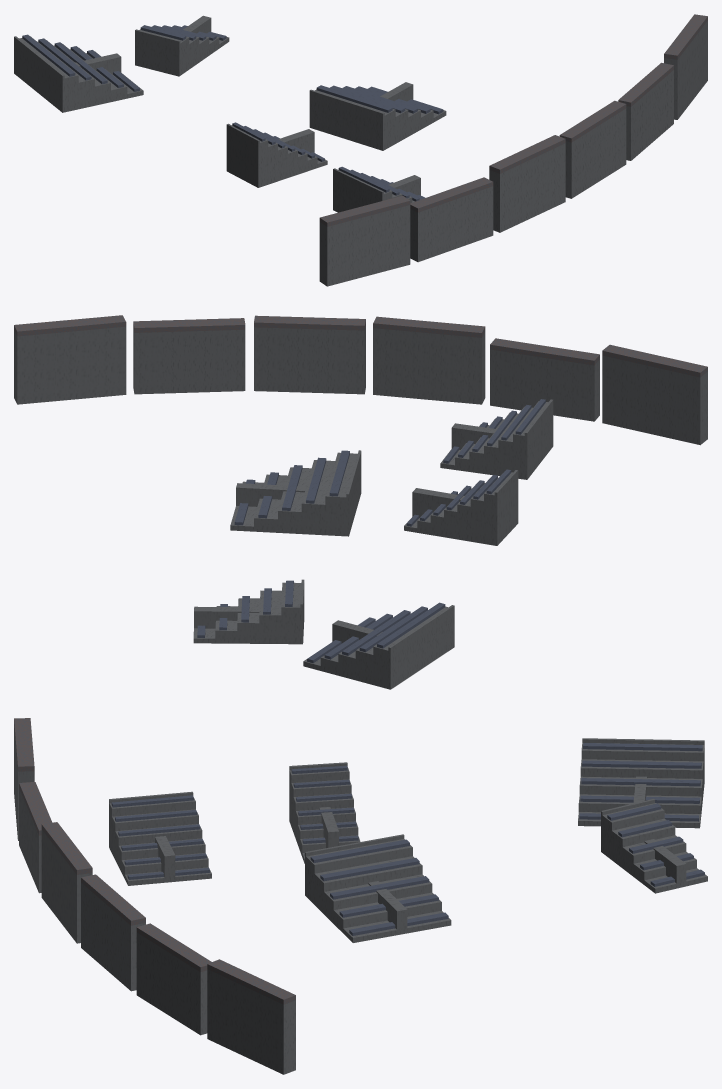
File: SM_City_AlHalqa_6.fbx
3 renders of one model, top to bottom at view 1: azimuth 30°, elevation 25°; view 2: azimuth 150°, elevation 25°; view 3: azimuth 270°, elevation 25°, orthographic. The views are drawn at different scales.
Visible parts, largest first — view 1: SM_City_AlHalqa_6; view 2: SM_City_AlHalqa_6; view 3: SM_City_AlHalqa_6.
Boxes of the visible parts, box(x1,y1,x2,y2) form: SM_City_AlHalqa_6: box(14, 14, 707, 286); SM_City_AlHalqa_6: box(14, 315, 707, 689); SM_City_AlHalqa_6: box(14, 718, 707, 1074).
Size of the model in its own units: 5035 by 600 by 5028.
4 materials, 4 textured.
